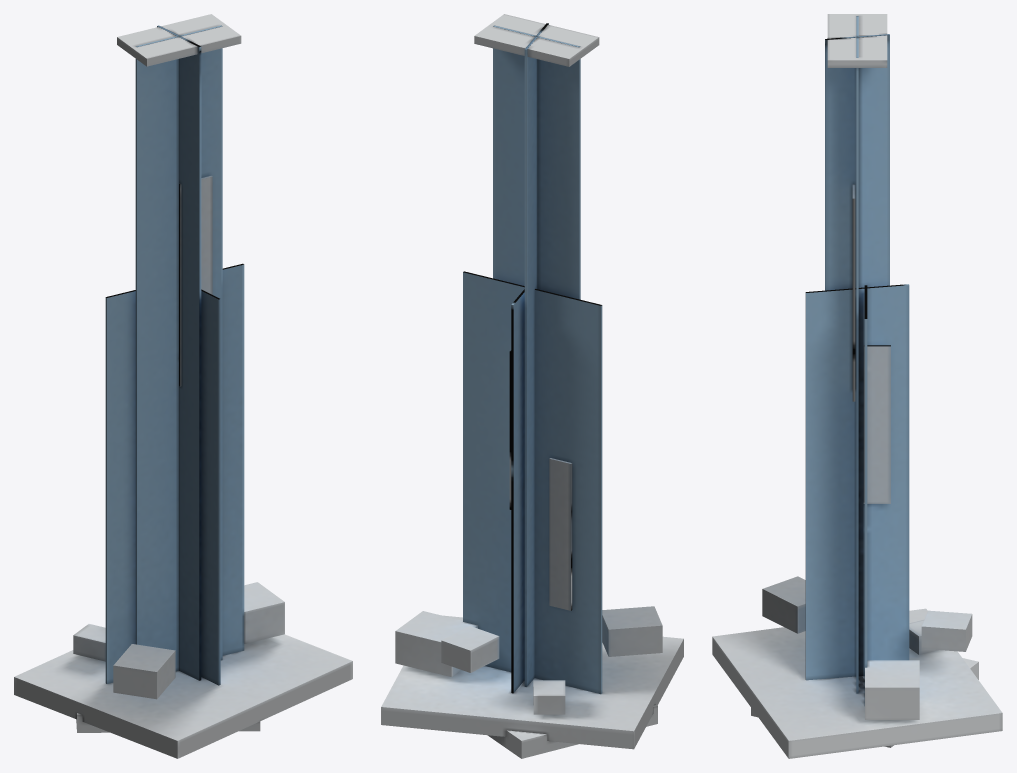
Rendered from waterfall.glb.
3 renders of one model, left to right at view 1: azimuth 30°, elevation 25°; view 2: azimuth 150°, elevation 25°; view 3: azimuth 270°, elevation 25°, orthographic.
Parts seen in each view (by area): view 1: waterfall; view 2: waterfall; view 3: waterfall.
Part boxes in pixels (x1,y1,x2,y2): waterfall: (14, 14, 352, 758); waterfall: (381, 14, 683, 758); waterfall: (712, 14, 1002, 758).
Size of the model in its own units: 12.6 by 29.5 by 11.67.
Materials: 2 (2 with a texture image).
